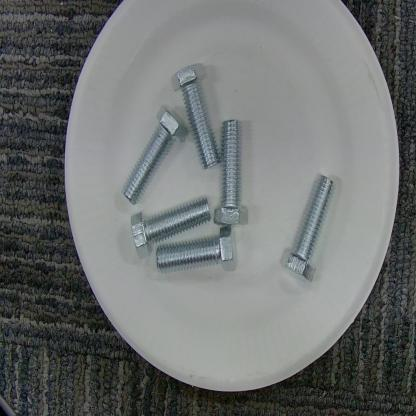FOD: (127, 55, 255, 286), (280, 169, 342, 293)
